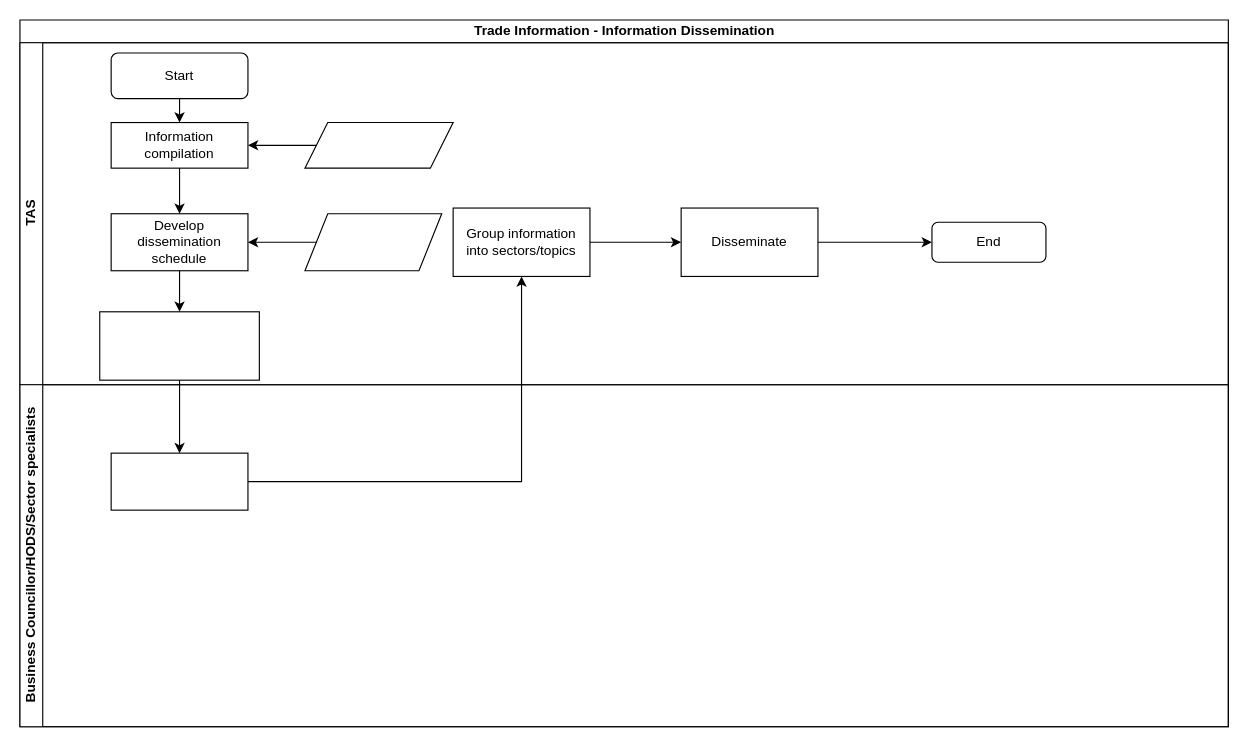
Some shapes in this 1248 by 747 pixel diagram are drawn without their labels. The centre of each missing label's shape, as x and y in pixels:
"Compile and submit information" goes at [179,481].
"Information from different sources" goes at [378,144].
"Request additional information from HODs, Specialists, business councillor" goes at [179,345].
"updated list of recipients" goes at [373,242].
